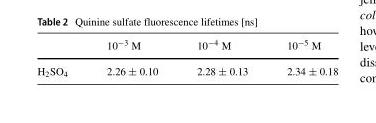table: (36, 37, 337, 84)
table column: (86, 37, 176, 84), (176, 37, 266, 84), (266, 37, 337, 84), (36, 37, 86, 84)
table column header: (36, 37, 337, 58)
table row: (36, 58, 337, 84), (36, 37, 337, 58)
